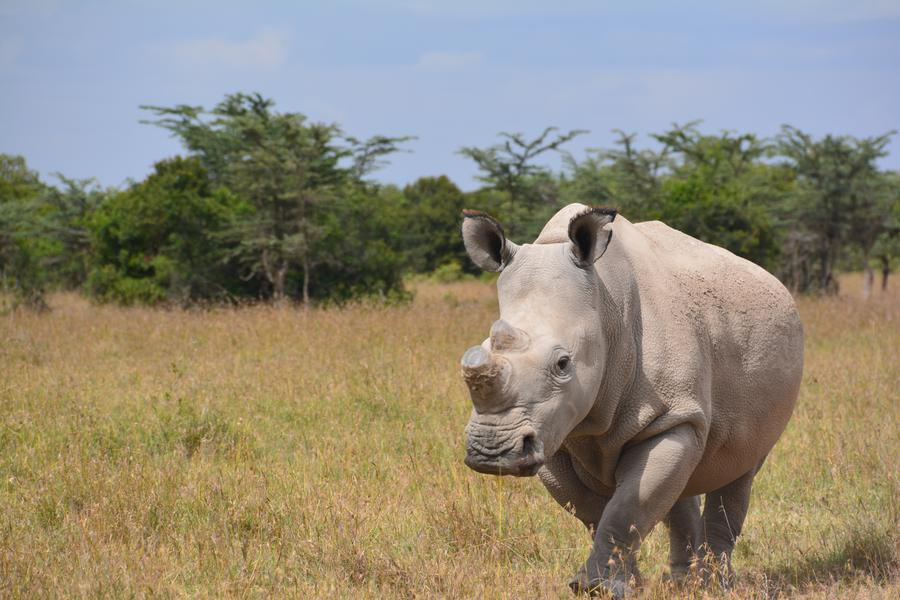rhino: (443, 196, 802, 555)
